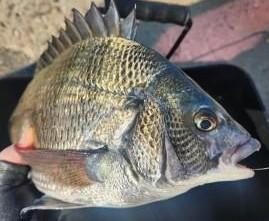fish: (10, 0, 260, 216)
